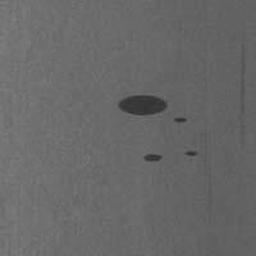Oil spot: (116, 93, 169, 118), (141, 152, 164, 164), (182, 148, 198, 159), (173, 115, 188, 124)
